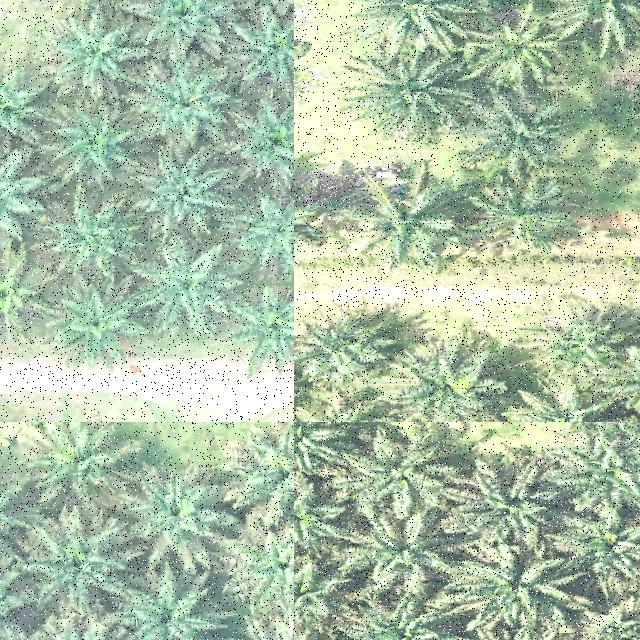Ganoderma: (0, 269, 31, 321)
